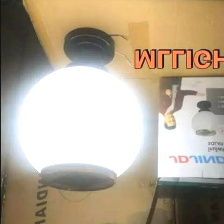book: (149, 72, 223, 203)
light_bulb: (14, 59, 146, 195)
